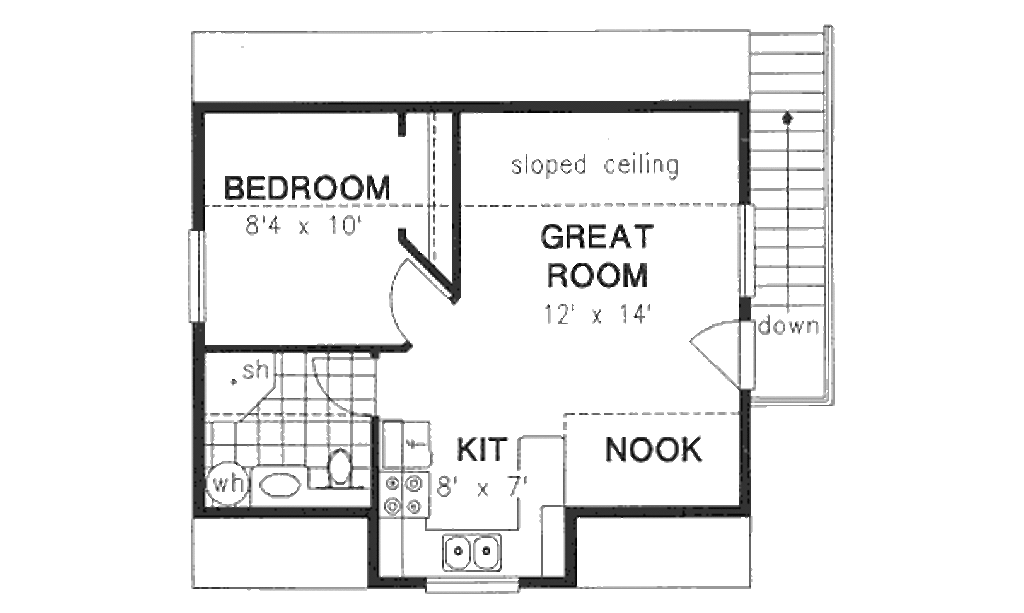door: (382, 253, 450, 341), (689, 319, 766, 395), (312, 346, 392, 416)
large_sink: (318, 435, 370, 508)
small_sink: (250, 464, 312, 509)
stairs: (748, 32, 839, 404)
twin_sink: (430, 533, 506, 572)
window: (419, 573, 521, 591), (190, 225, 204, 326), (741, 202, 752, 299)
